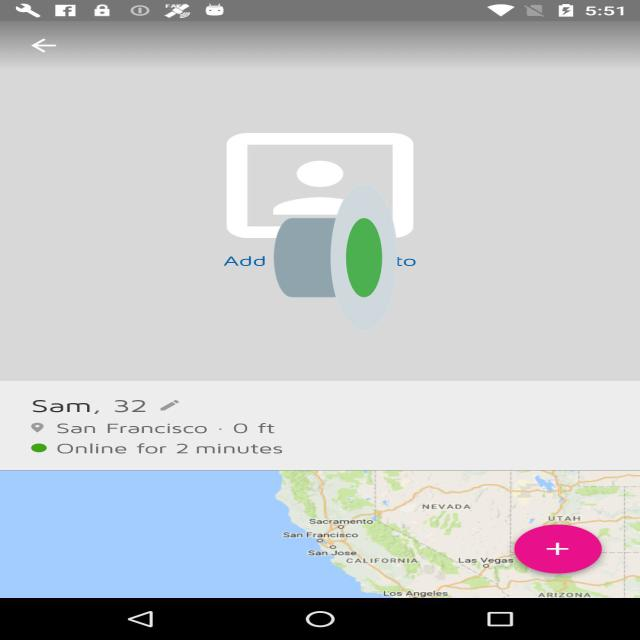social proof: (274, 122, 398, 393)
